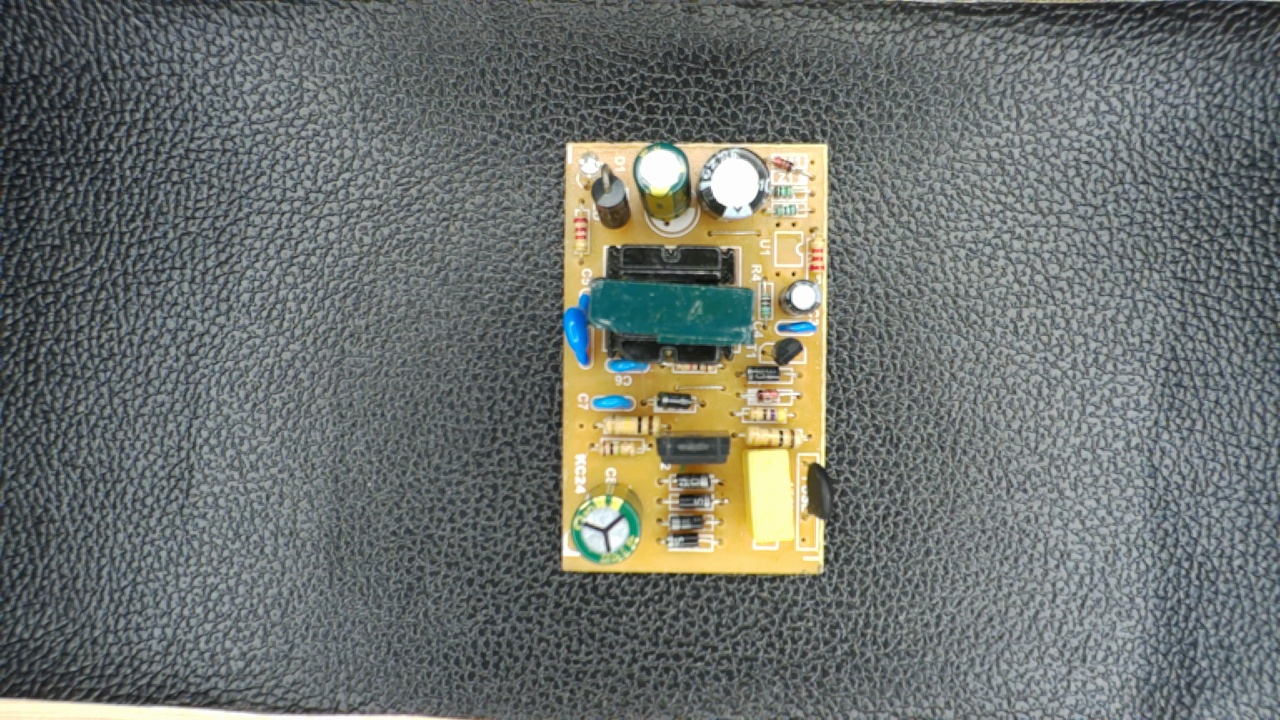fuse: (791, 449, 837, 534)
hv_capacitor: (566, 482, 647, 567)
mov: (558, 284, 599, 372)
